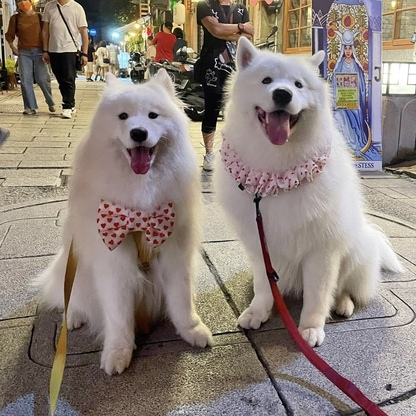samoyed: (208, 32, 412, 349), (26, 59, 221, 377)
